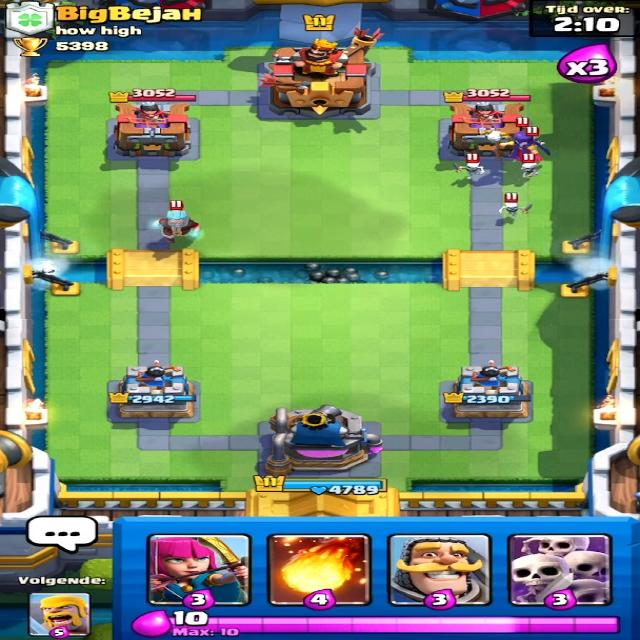Enemy_Ice_Wizard_Troop: (152, 209, 200, 244)
Enemy_Skeleton_Troop: (453, 160, 487, 179), (497, 202, 533, 216), (515, 162, 540, 178)
Enemy_Witch_Troop: (497, 130, 543, 166)
Fireball_Card: (270, 533, 366, 609)
